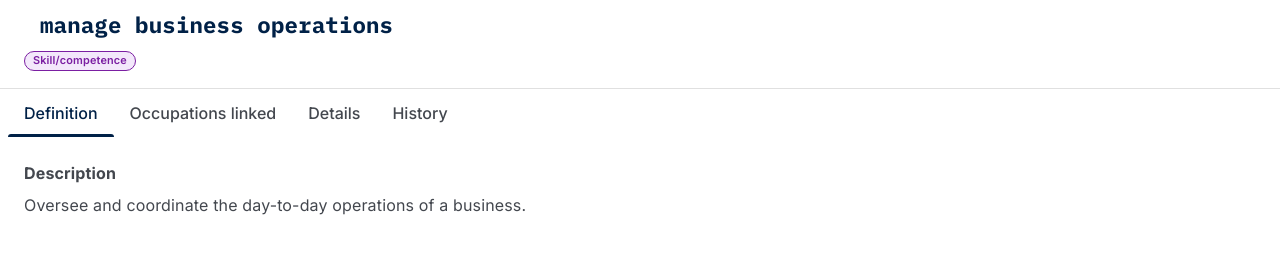
Test: ExplorerDetailPanel › Details tab › should render 'Skill' as the type for a skill
What coordinates should you click on to do the following:
click the tab "Details"
I would click on:
 (334, 113)
Its box is [292,89,376,137].
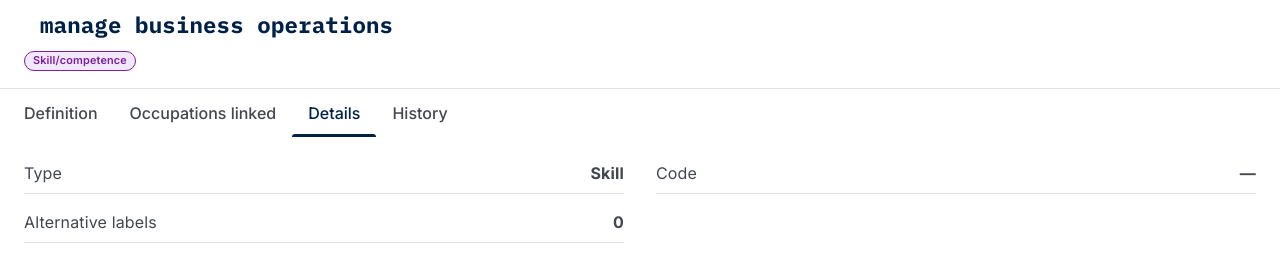
Check: the text "Type" is shown, box [24,161,62,185]
Check: the text "Skill" is shown, box [590,161,624,185]
